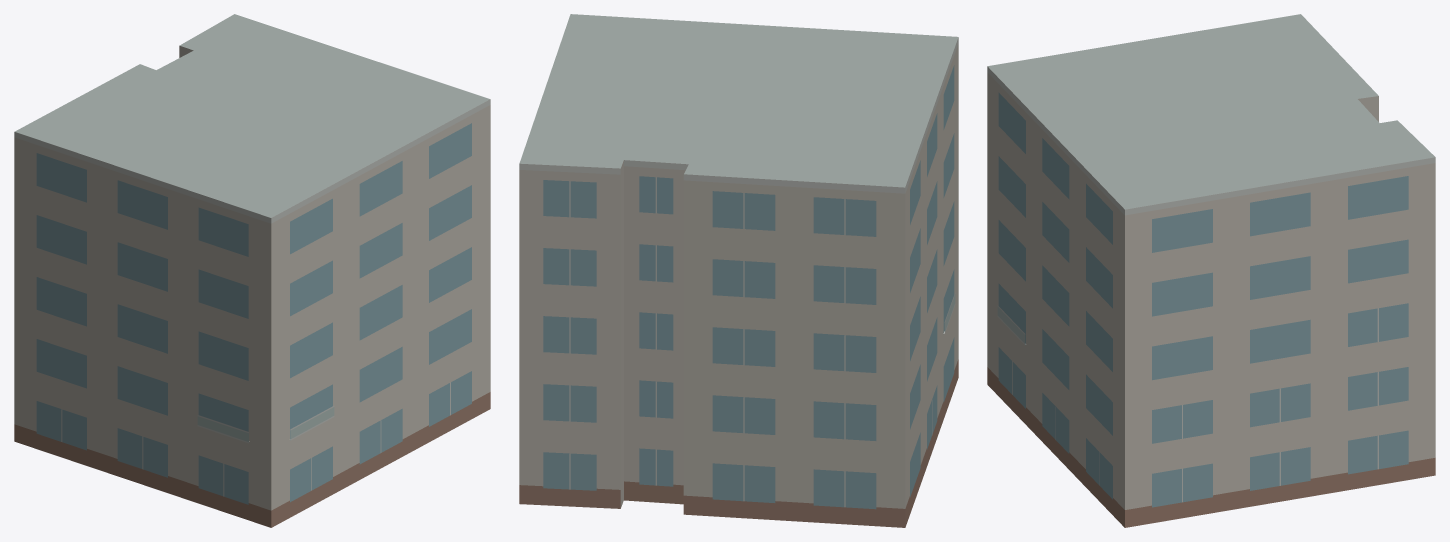
Rendered from survey-upis-32737762.glb.
3 views of the same model, side by side, from view 1: azimuth 30°, elevation 25°; view 2: azimuth 150°, elevation 25°; view 3: azimuth 270°, elevation 25° (orthographic). The views are drawn at different scales.
Parts seen in each view (by area): view 1: survey-upis-32737762.tmp; view 2: survey-upis-32737762.tmp; view 3: survey-upis-32737762.tmp.
Boxes of the visible parts, x1,y1,x2,y2 form: survey-upis-32737762.tmp: [14, 14, 490, 527]; survey-upis-32737762.tmp: [519, 14, 958, 527]; survey-upis-32737762.tmp: [987, 14, 1435, 527].
Size of the model in its own units: 17.81 by 13.5 by 17.25.
